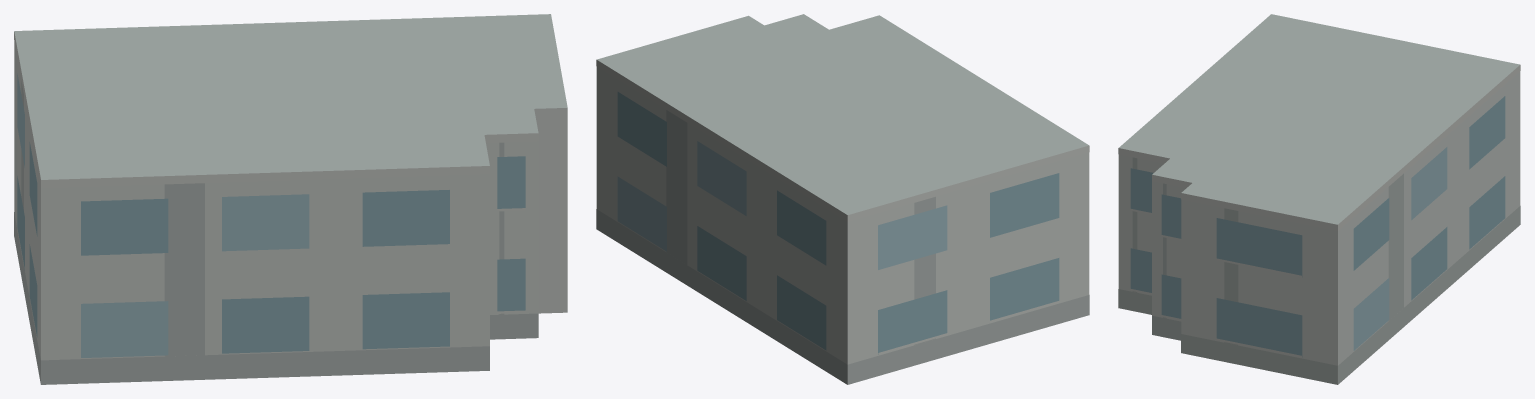
Rendered from residential-043900e6-343c-489f-a726-a5732fb40400.glb.
The picture shows the model from 3 angles, left to right: view 1: azimuth 30°, elevation 25°; view 2: azimuth 150°, elevation 25°; view 3: azimuth 270°, elevation 25°; orthographic projection. The views are drawn at different scales.
Parts seen in each view (by area): view 1: residential-043900e6-343c-489f-a726-a5732fb40400.tmp; view 2: residential-043900e6-343c-489f-a726-a5732fb40400.tmp; view 3: residential-043900e6-343c-489f-a726-a5732fb40400.tmp.
Part boxes in pixels (bbox=[...]): residential-043900e6-343c-489f-a726-a5732fb40400.tmp: bbox=[14, 14, 567, 384]; residential-043900e6-343c-489f-a726-a5732fb40400.tmp: bbox=[596, 14, 1089, 384]; residential-043900e6-343c-489f-a726-a5732fb40400.tmp: bbox=[1118, 14, 1520, 384].
Bounding box in the file's own units: 16.95 × 6 × 13.66.
